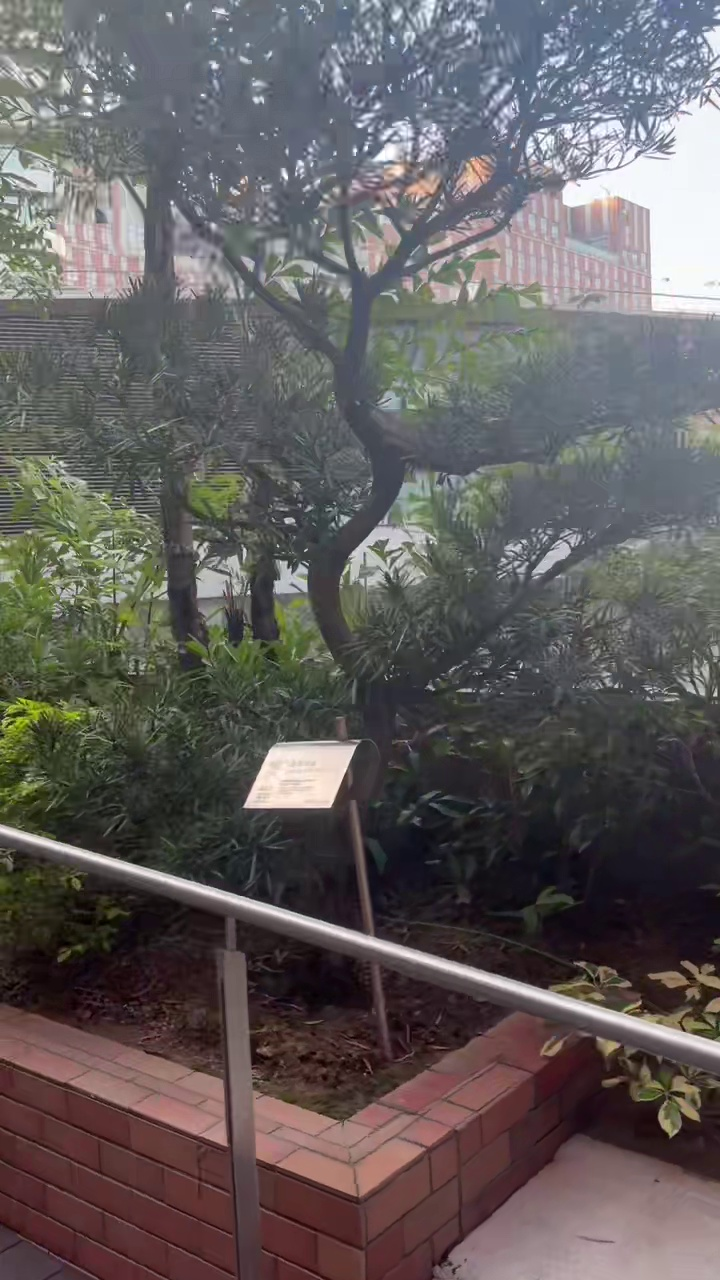Podocarpus macrophyllus: (0, 0, 719, 750)
